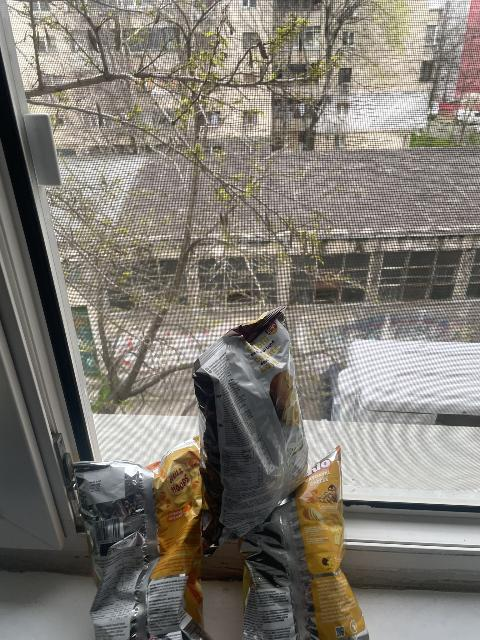Chio Cascaval 125g: (233, 445, 352, 639)
Chio Hula Hoops Cheese 70g: (77, 443, 209, 640)
Lays Beef Grilled Ribs 125g: (193, 313, 308, 542)
